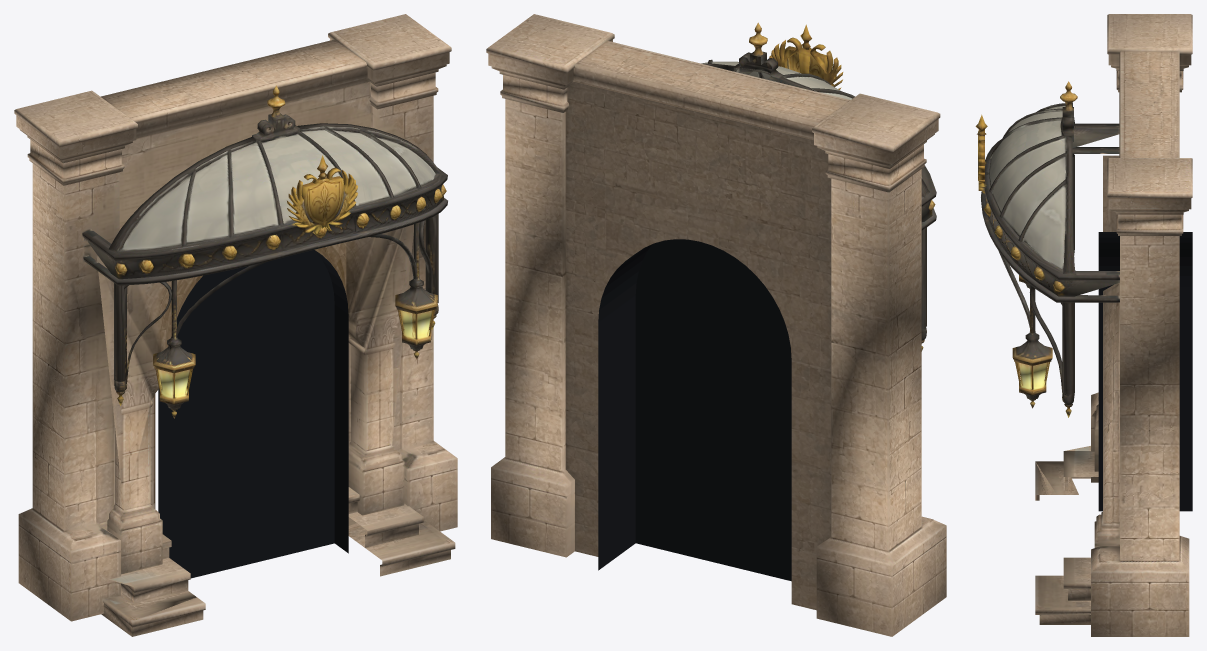
Rendered from Furn_Entrance_Dorm.fbx.
3 views of the same model, side by side, from view 1: azimuth 30°, elevation 25°; view 2: azimuth 150°, elevation 25°; view 3: azimuth 270°, elevation 25° (orthographic). The views are drawn at different scales.
Parts seen in each view (by area): view 1: Furn_Entrance_Dorm; view 2: Furn_Entrance_Dorm; view 3: Furn_Entrance_Dorm.
Part boxes in pixels (x1,y1,x2,y2): Furn_Entrance_Dorm: [14, 14, 457, 636]; Furn_Entrance_Dorm: [486, 14, 946, 636]; Furn_Entrance_Dorm: [975, 14, 1192, 636].
Bounding box in the file's own units: 4.91 × 6 × 2.51.
Materials: 2 (1 with a texture image).
